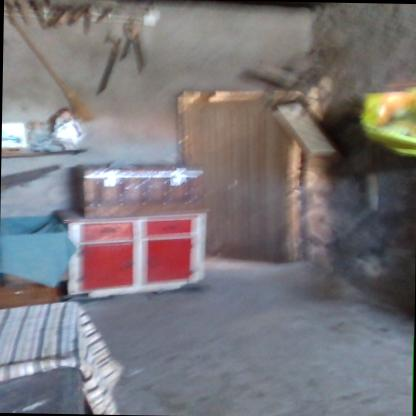semi: (167, 80, 313, 267)
